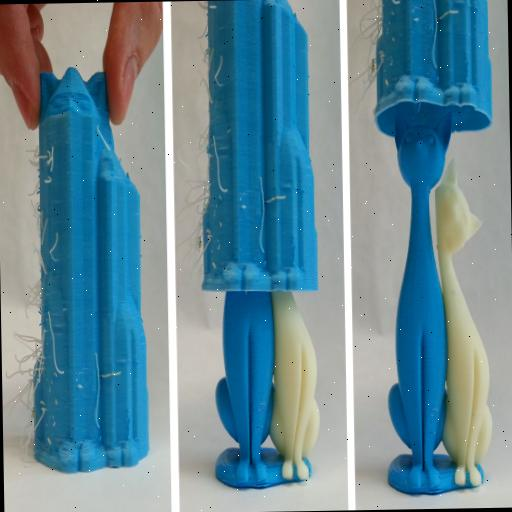stringing: (6, 318, 60, 450), (356, 2, 398, 98), (185, 146, 214, 257), (256, 172, 288, 270), (194, 23, 226, 103), (210, 124, 228, 210), (26, 144, 58, 188)
